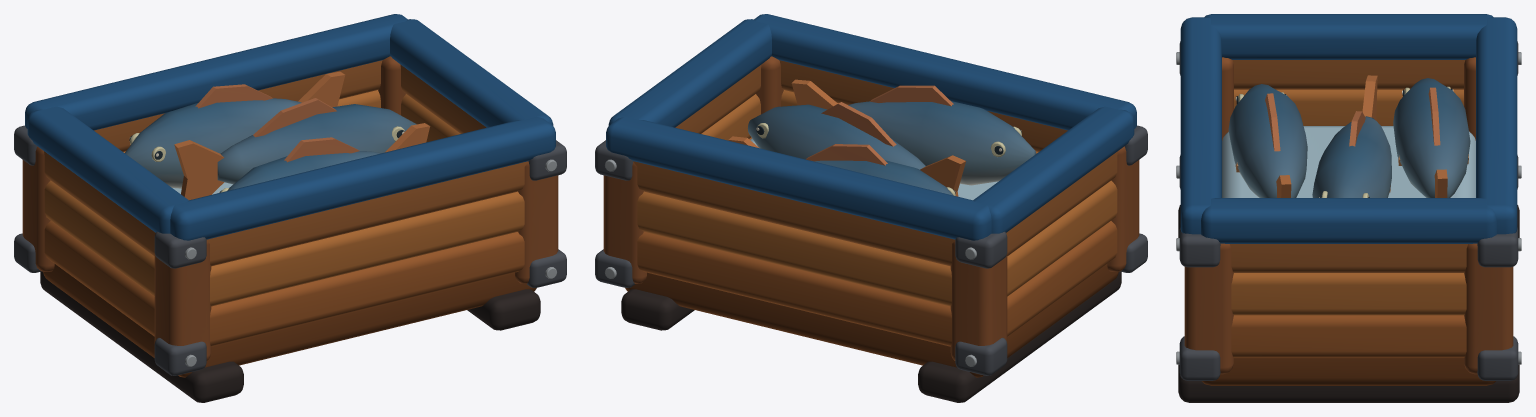
The model's file is fish_crate.glb.
3 views of the same model, side by side, from view 1: azimuth 30°, elevation 25°; view 2: azimuth 150°, elevation 25°; view 3: azimuth 270°, elevation 25° (orthographic). The views are drawn at different scales.
Visible parts, largest first — view 1: fish_crate; view 2: fish_crate; view 3: fish_crate.
Part boxes in pixels (<box>): fish_crate: <box>14,14,566,402</box>; fish_crate: <box>595,14,1147,402</box>; fish_crate: <box>1176,14,1521,402</box>.
Size of the model in its own units: 0.955 by 0.4564 by 0.678.
